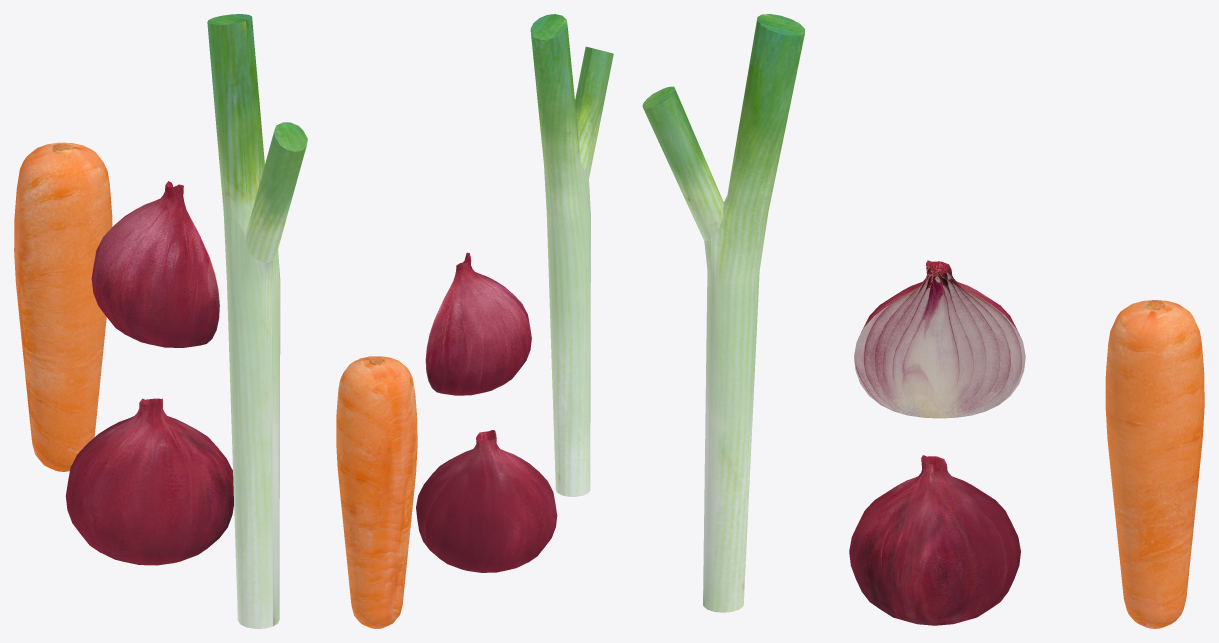
The model's file is vegetables.glb.
The picture shows the model from 3 angles, left to right: view 1: azimuth 30°, elevation 25°; view 2: azimuth 150°, elevation 25°; view 3: azimuth 270°, elevation 25°; orthographic projection. The views are drawn at different scales.
Visible parts, largest first — view 1: pCylinder3, pSphere2, pSphere3, pSphere1; view 2: pCylinder3, pSphere2, pSphere3, pSphere1; view 3: pCylinder3, pSphere2, pSphere3, pSphere1.
Boxes of the visible parts, x1,y1,x2,y2 form: pCylinder3: (207, 14, 307, 628); pSphere2: (14, 142, 112, 471); pSphere3: (65, 398, 233, 565); pSphere1: (91, 181, 219, 347); pCylinder3: (530, 14, 613, 496); pSphere2: (336, 356, 417, 628); pSphere3: (416, 430, 557, 572); pSphere1: (425, 252, 531, 395); pCylinder3: (642, 14, 804, 612); pSphere2: (1105, 300, 1204, 628); pSphere3: (849, 455, 1020, 625); pSphere1: (854, 260, 1025, 418).
Size of the model in its own units: 6.07 by 23.29 by 19.86.
Materials: 1 (1 with a texture image).
